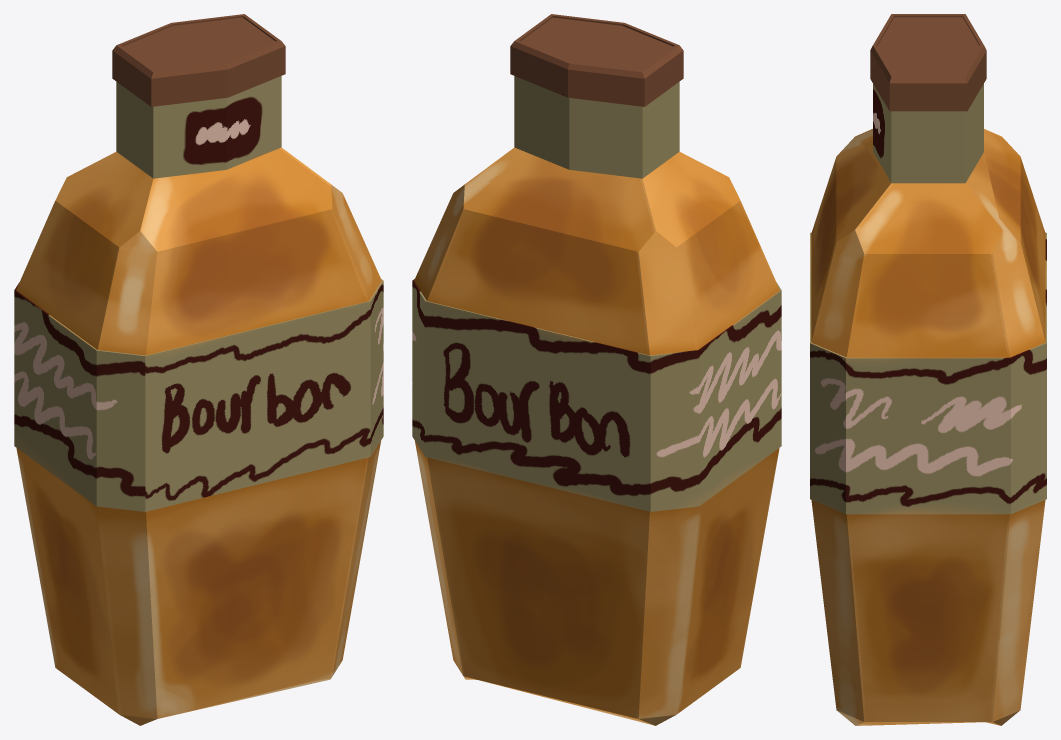
Rendered from Bourbon.fbx.
The picture shows the model from 3 angles, left to right: view 1: azimuth 30°, elevation 25°; view 2: azimuth 150°, elevation 25°; view 3: azimuth 270°, elevation 25°; orthographic projection.
Visible parts, largest first — view 1: Bottiglia1_0; view 2: Bottiglia1_0; view 3: Bottiglia1_0.
Part boxes in pixels (x1,y1,x2,y2): Bottiglia1_0: (14, 14, 383, 725); Bottiglia1_0: (412, 14, 781, 725); Bottiglia1_0: (810, 14, 1046, 725).
Size of the model in its own units: 44.78 by 95.37 by 31.92.
